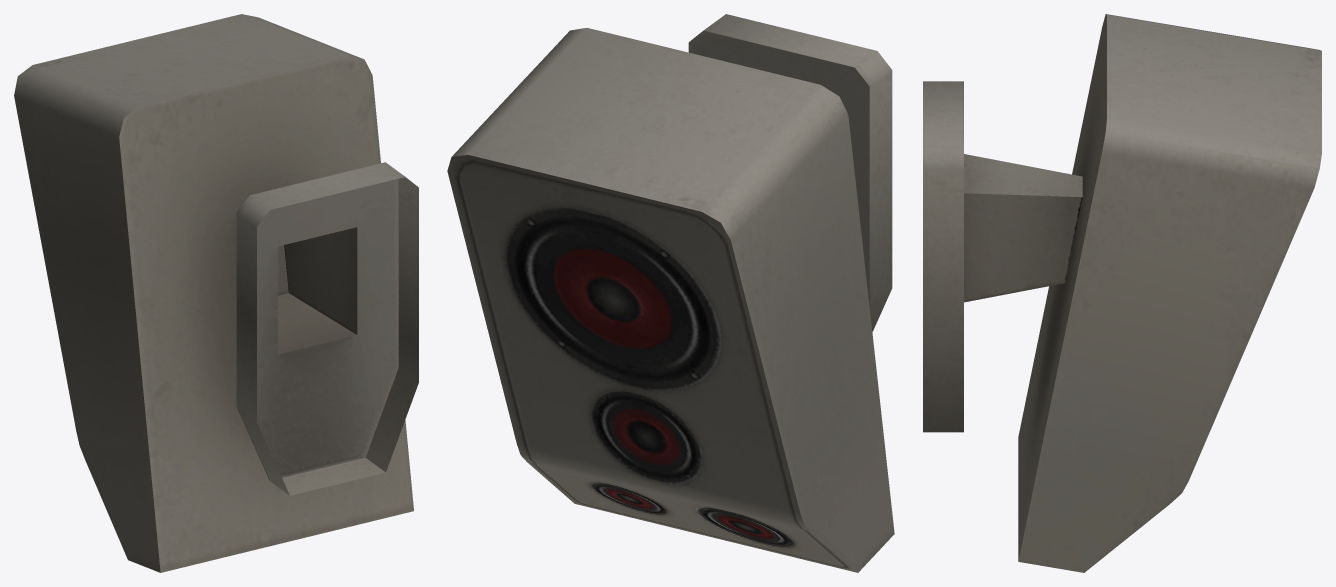
The model's file is Loudspeaker08.FBX.
The picture shows the model from 3 angles, left to right: view 1: azimuth 30°, elevation 25°; view 2: azimuth 150°, elevation 25°; view 3: azimuth 270°, elevation 25°; orthographic projection. The views are drawn at different scales.
Visible parts, largest first — view 1: Loudspeaker08; view 2: Loudspeaker08; view 3: Loudspeaker08.
Part boxes in pixels (x1,y1,x2,y2): Loudspeaker08: (14, 14, 418, 572); Loudspeaker08: (447, 14, 894, 572); Loudspeaker08: (923, 14, 1321, 572).
Bounding box in the file's own units: 28.55 × 47.29 × 38.5.
